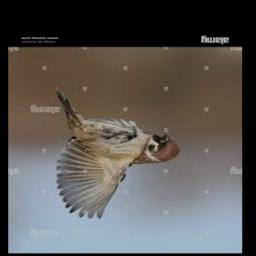Sparrow: (57, 86, 181, 219)
